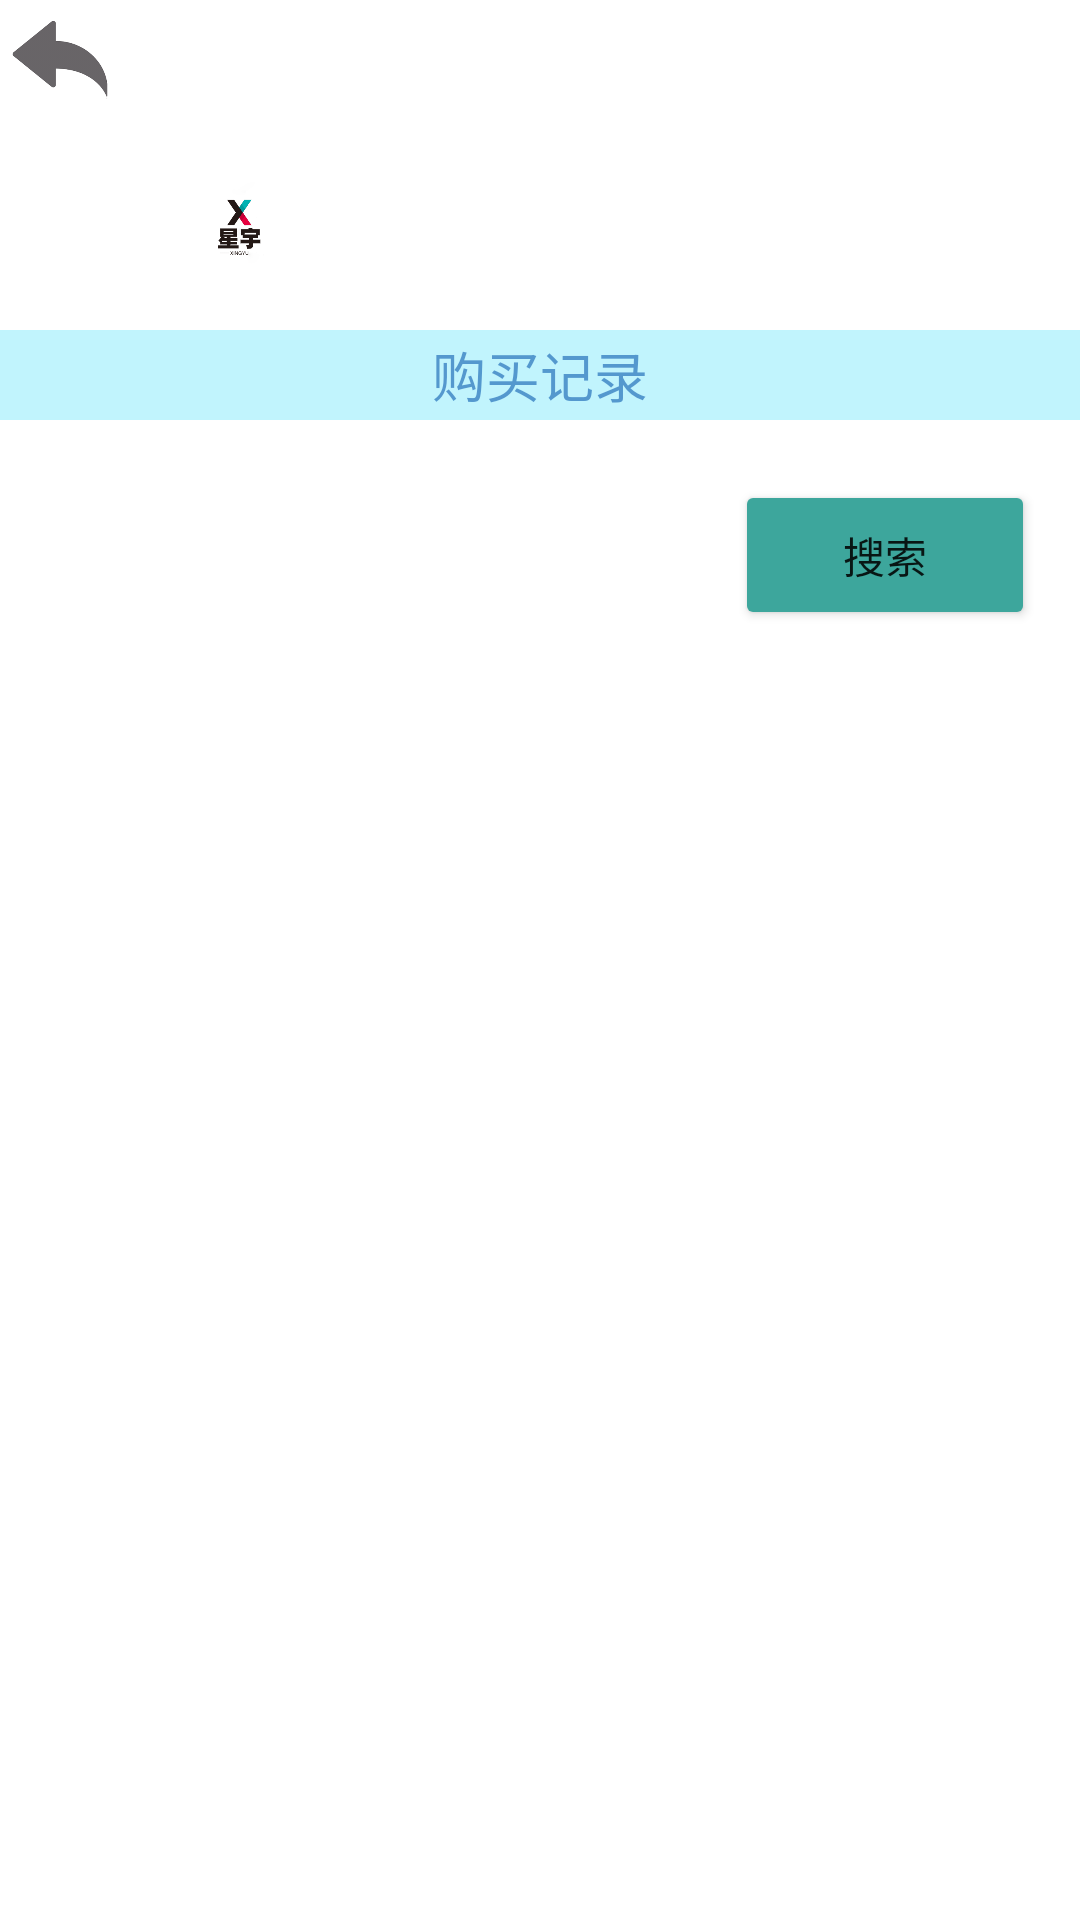

Locate icon controls on the screen. Image size 1080x1920, boxes as (x1, y1, x2, y2).
back: (12, 21, 108, 97)
